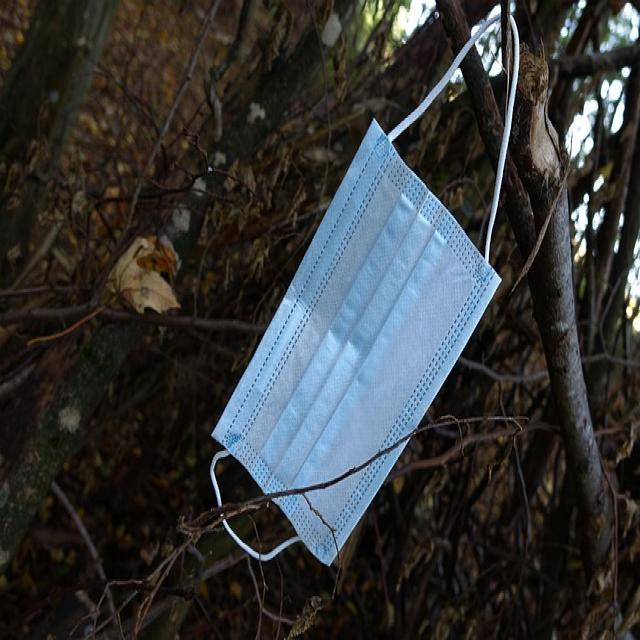face mask: (216, 8, 520, 564)
